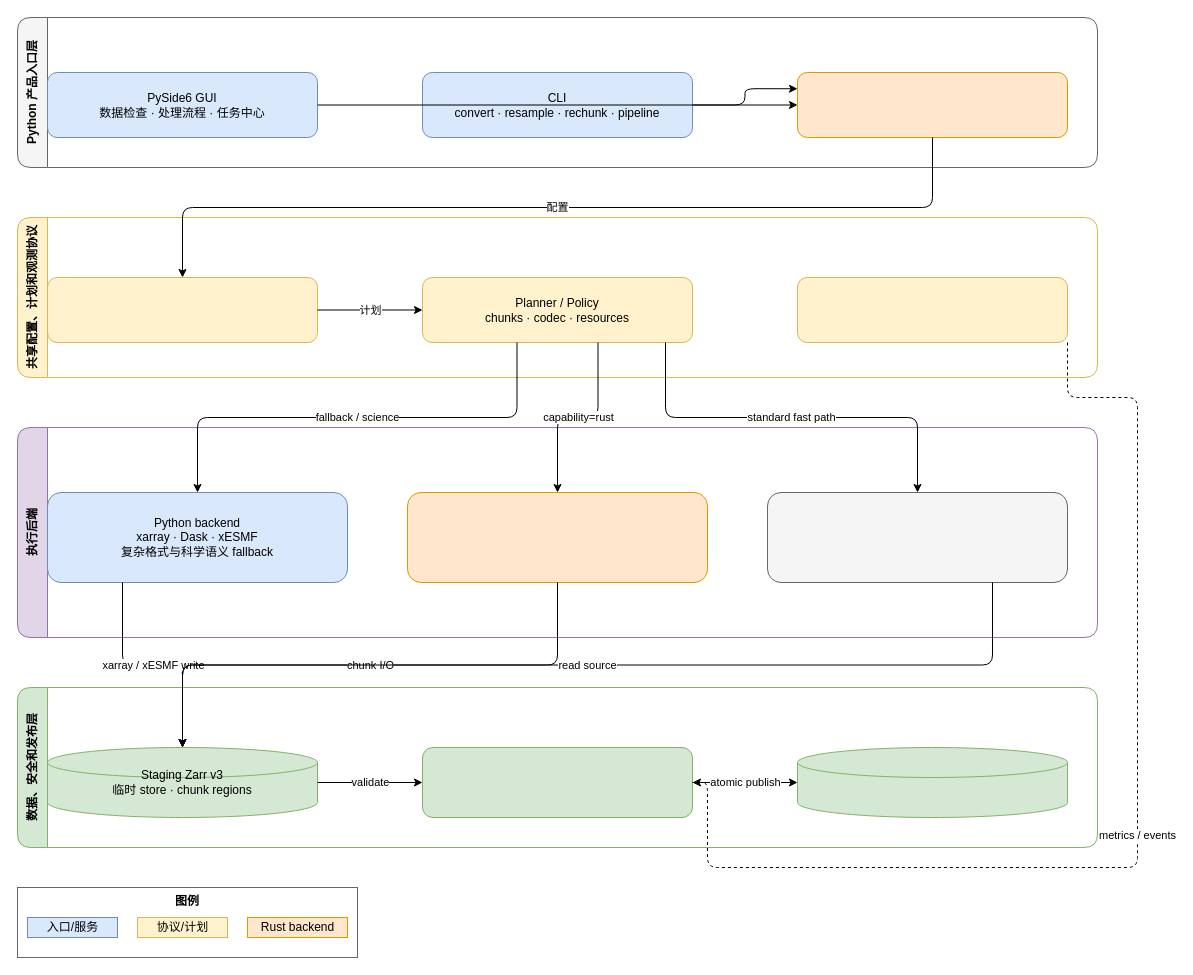
The diagram is 1193 pixels wide and 975 high, and some of its shapes have lost their labels. Each missing label, with the centre of its shape:
application.services 稳定的 Python 服务入口: [932,105]
Config / Selection 用户意图与范围: [182,309]
Manifest / Events schema 6 · fallback evidence: [932,309]
Published Zarr v3 原子发布 · 可恢复备份: [932,782]
Rust native backend PyO3 · zarrs · ndarray · Rayon chunk I/O · rechunk · runtime: [557,537]
Validation 结构 · 逐值 · 语义抽样: [557,782]
可选 Rust I/O netcdf · HDF5 · GDAL 仅标准格式快路径: [917,537]
